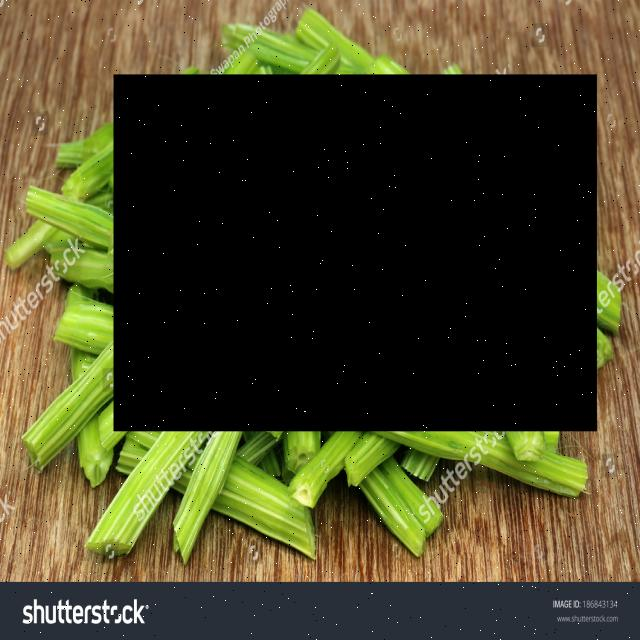Sajjyun: (114, 75, 597, 431)
